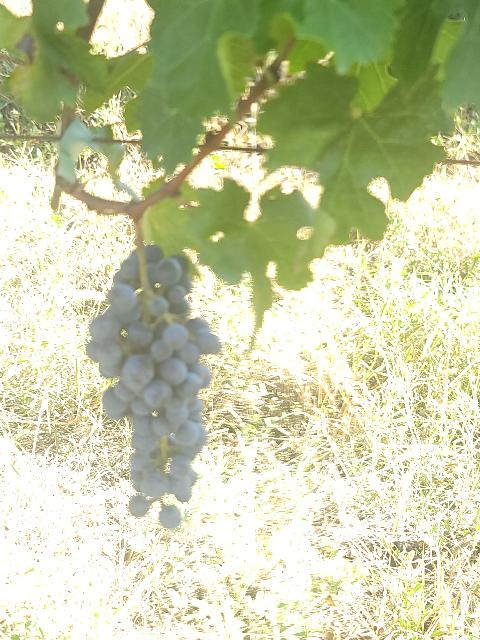grapes: (86, 245, 221, 516)
